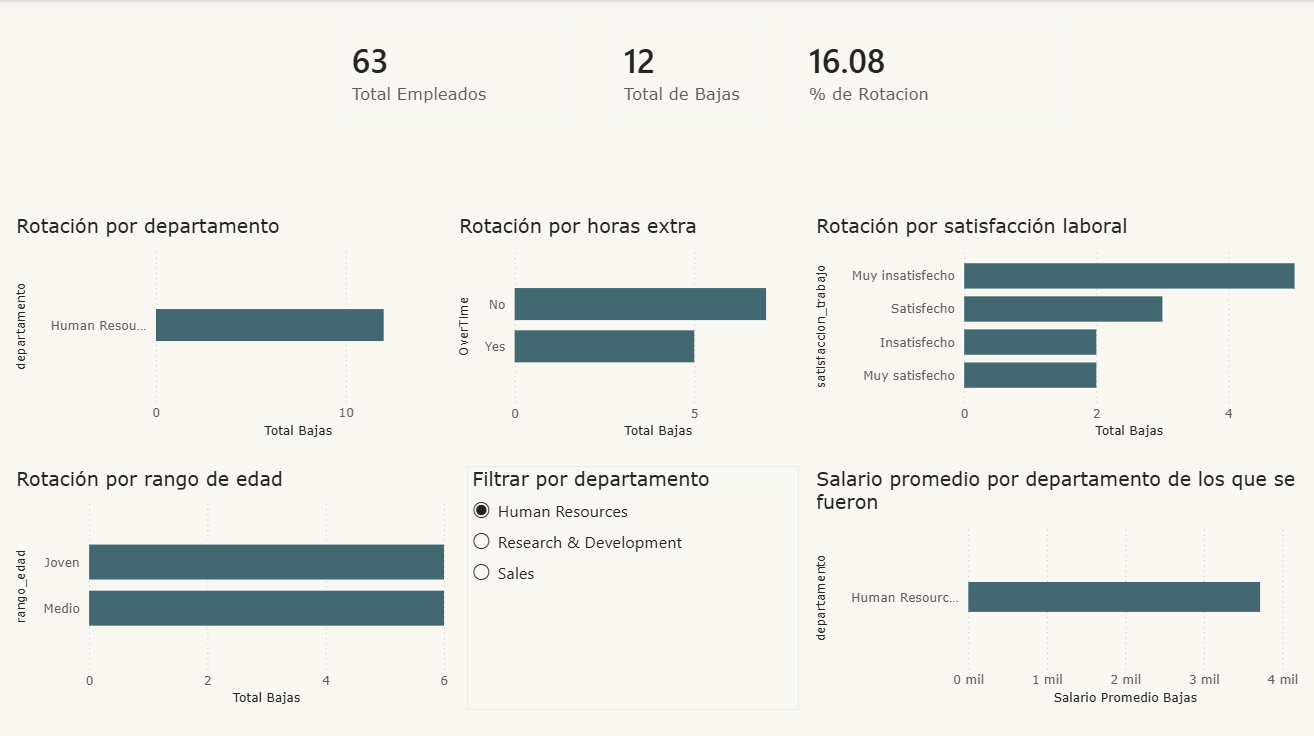

The page's visual inventory and layout, read from the dashboard file:
{"tool":"powerbi","page":{"name":"Página 1","canvas":[1280,720],"ordinal":0},"visuals":[{"type":"cardVisual","fields":{"Data":["CountNonNull(hr_analytics vista_empleados.id_empleado)"]},"box":[312.2,0,256.8,134.2],"z":0},{"type":"cardVisual","fields":{"Data":["hr_analytics vista_empleados.Total Bajas"]},"box":[576.8,0,179.9,134.2],"z":1000},{"type":"cardVisual","fields":{"Data":["Avg(hr_analytics vista_empleados.% Rotacion)"]},"box":[756.7,0,298.6,134.2],"z":2000},{"type":"clusteredBarChart","title":"Rotación por departamento","fields":{"Y":["hr_analytics vista_empleados.Total Bajas"],"Category":["hr_analytics vista_empleados.departamento"]},"box":[10.7,207.2,430.9,223.7],"z":3000},{"type":"clusteredBarChart","title":"Rotación por horas extra","fields":{"Y":["hr_analytics vista_empleados.Total Bajas"],"Category":["hr_analytics vista_empleados.OverTime"]},"box":[441.7,207.2,347.5,224],"z":4000},{"type":"clusteredBarChart","title":"Rotación por satisfacción laboral","fields":{"Category":["hr_analytics vista_empleados.satisfaccion_trabajo"],"Y":["hr_analytics vista_empleados.Total Bajas"]},"box":[789.1,207.2,479.3,224],"z":5000},{"type":"clusteredBarChart","title":"Rotación por rango de edad","fields":{"Category":["hr_analytics vista_empleados.rango_edad"],"Y":["hr_analytics vista_empleados.Total Bajas"]},"box":[10.5,453.2,430.2,237.6],"z":6000},{"type":"clusteredBarChart","title":"Salario promedio por departamento de los que se fueron","fields":{"Category":["hr_analytics vista_empleados.departamento"],"Y":["hr_analytics vista_empleados.Salario Promedio Bajas"]},"box":[788.8,453.3,479.5,237.3],"z":7000},{"type":"listSlicer","fields":{"Values":["hr_analytics vista_empleados.departamento"]},"box":[454.2,453.3,322.9,237.3],"z":8000}]}

Visuals, with their boxes in screenshot pixels (x1, y1, x2, y2), scaled from the page's 1280x720 canvas onto the 1314x736 screenshot:
cardVisual - CountNonNull(hr_analytics vista_empleados.id_empleado): box(320, 0, 584, 137)
cardVisual - hr_analytics vista_empleados.Total Bajas: box(592, 0, 777, 137)
cardVisual - Avg(hr_analytics vista_empleados.% Rotacion): box(777, 0, 1083, 137)
"Rotación por departamento" clusteredBarChart: box(11, 212, 453, 440)
"Rotación por horas extra" clusteredBarChart: box(453, 212, 810, 441)
"Rotación por satisfacción laboral" clusteredBarChart: box(810, 212, 1302, 441)
"Rotación por rango de edad" clusteredBarChart: box(11, 463, 452, 706)
"Salario promedio por departamento de los que se fueron" clusteredBarChart: box(810, 463, 1302, 706)
listSlicer - hr_analytics vista_empleados.departamento: box(466, 463, 798, 706)
